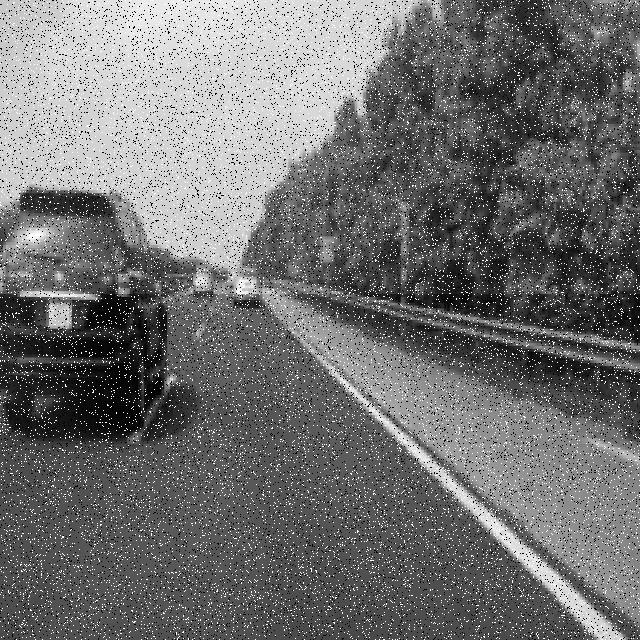clear-road: (0, 294, 591, 640)
